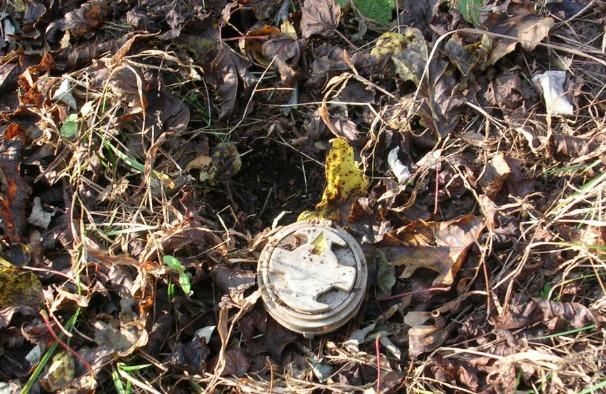pmn: (254, 215, 369, 340)
